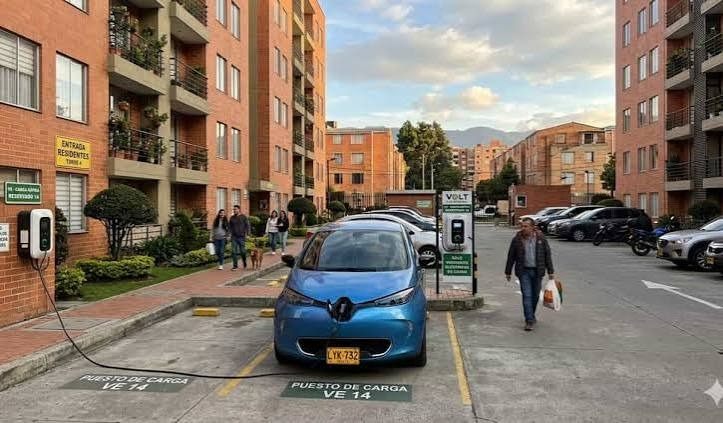car: (268, 214, 429, 373), (350, 200, 461, 276), (338, 206, 450, 259), (550, 207, 658, 246), (657, 218, 723, 269), (534, 206, 615, 241), (600, 212, 667, 249), (398, 212, 443, 265), (438, 209, 479, 259)
